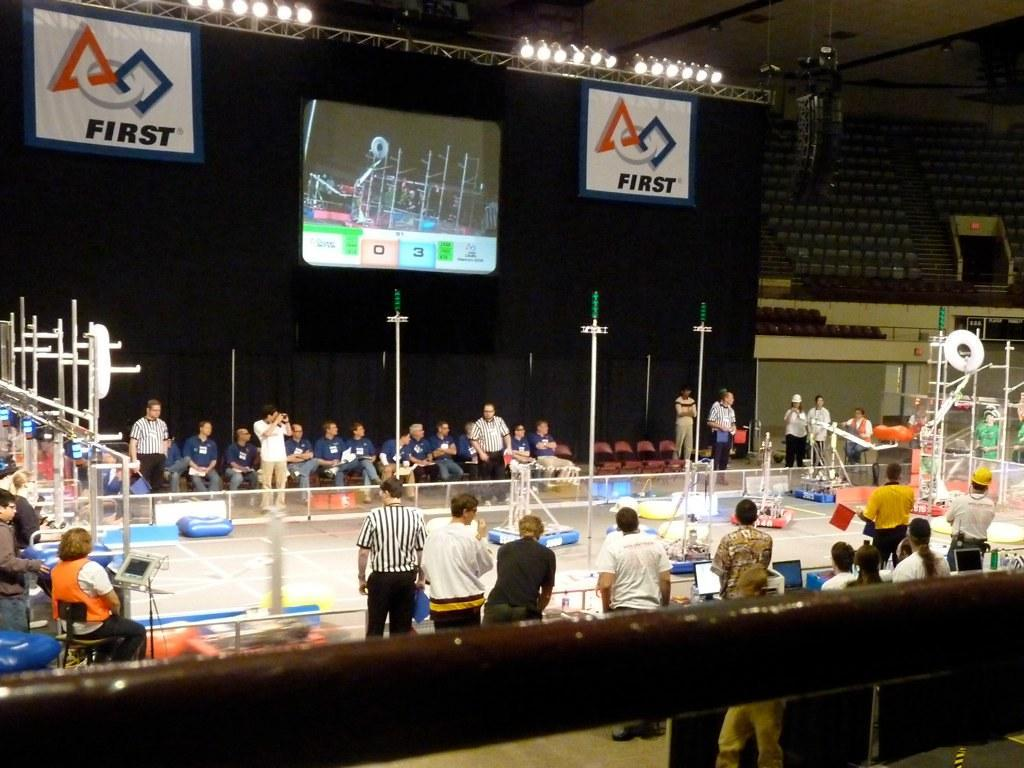robot: (482, 450, 587, 563), (727, 432, 800, 537), (785, 409, 848, 507)
